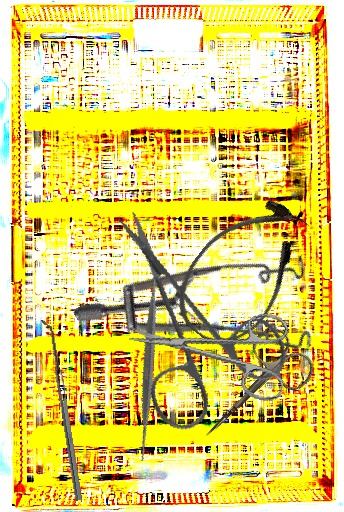Cannula: (159, 182, 327, 361)
Iris Scissors: (70, 207, 314, 453), (122, 288, 296, 404), (181, 320, 322, 460)
Spatula Surgical: (42, 253, 257, 469), (39, 318, 83, 502)
Speculum: (72, 198, 342, 441)
